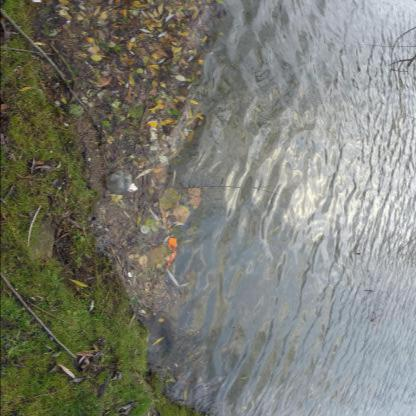Bottle cap: (106, 170, 132, 194)
Plastic bag - wrapper: (165, 238, 178, 270)
